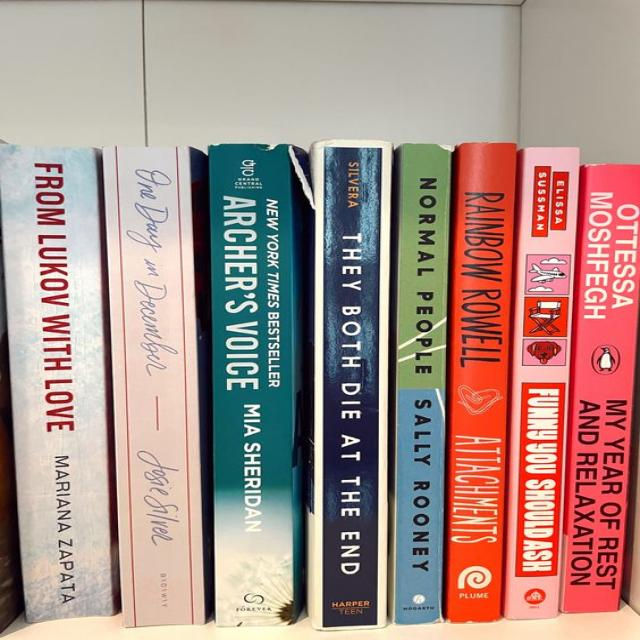book: (0, 144, 118, 620), (102, 147, 208, 626), (211, 146, 305, 626), (306, 140, 391, 630), (561, 164, 639, 613), (505, 147, 578, 619), (443, 143, 514, 622), (390, 144, 450, 622)
